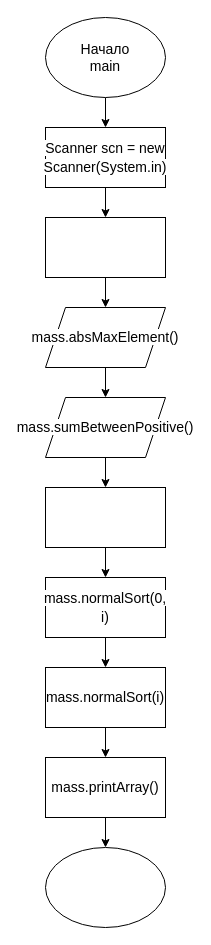
The diagram is 211 pixels wide and 945 high, and some of its shapes have lost their labels. The shapes that lost their labels are listed below. From the top down, each one's centre as x and y in pixels, then its label:
At pixel 105 247: "Array mass = new Array(scn);".
At pixel 105 517: "int i = mass.strangeSort()".
At pixel 105 887: "Конец".
